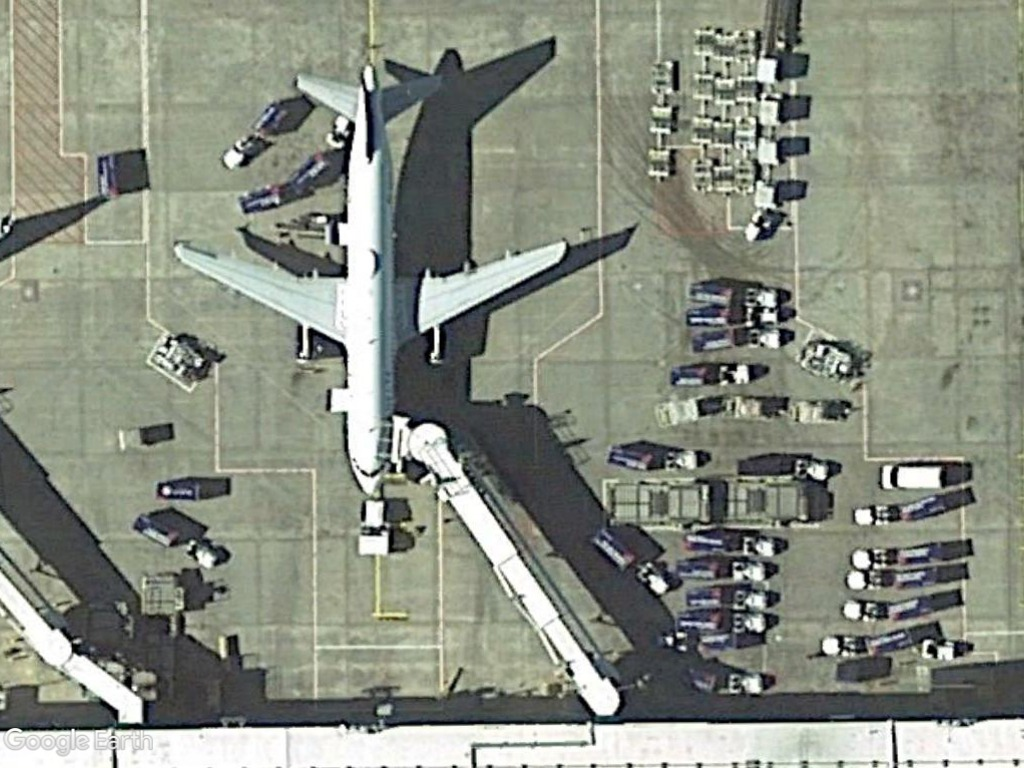airliner: (176, 55, 566, 501)
van: (874, 458, 949, 494)
